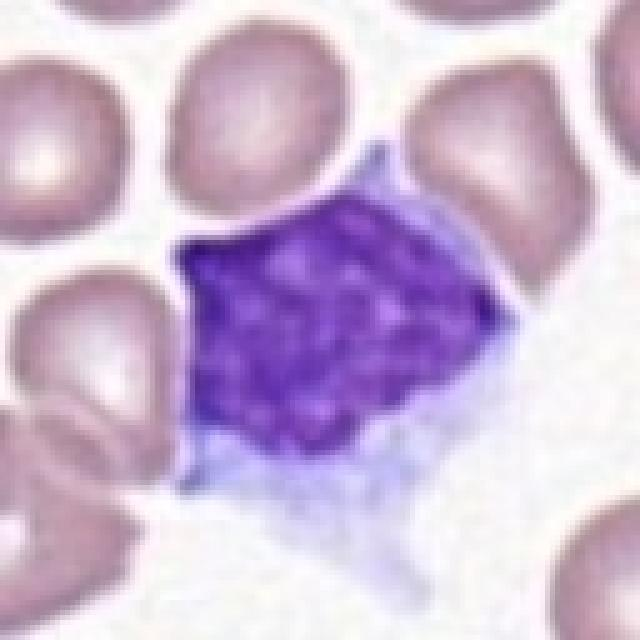lympho: (163, 136, 524, 618)
